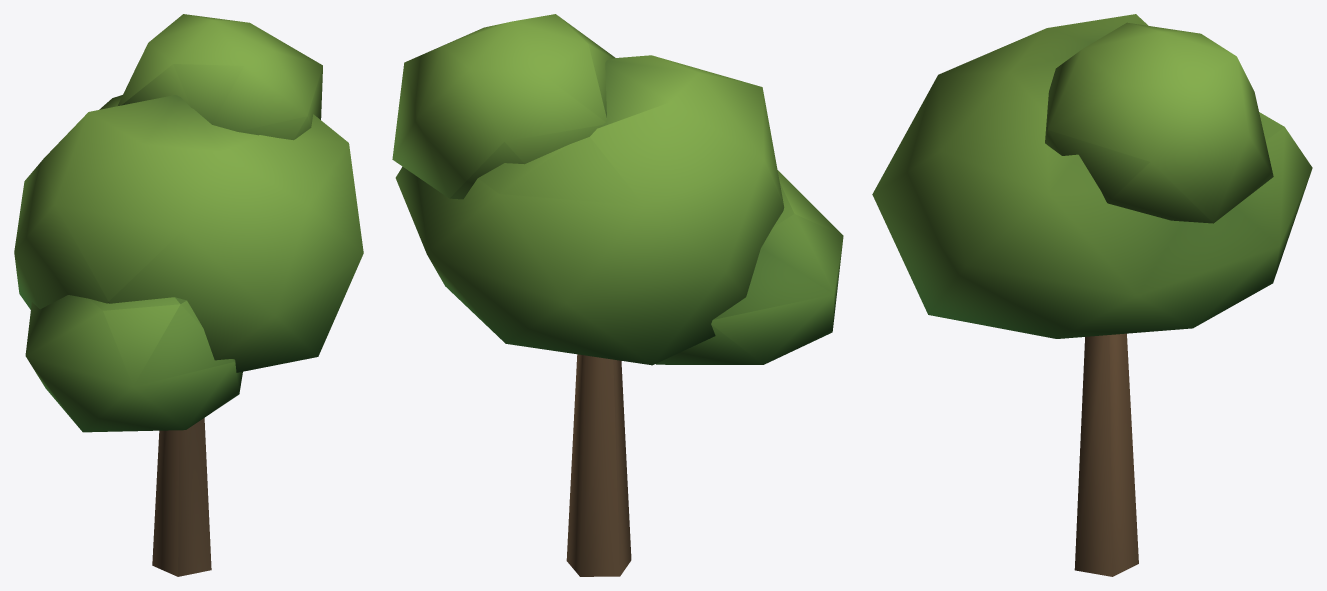
Rendered from prop_tree_a.glb.
3 views of the same model, side by side, from view 1: azimuth 30°, elevation 25°; view 2: azimuth 150°, elevation 25°; view 3: azimuth 270°, elevation 25° (orthographic). The views are drawn at different scales.
Visible parts, largest first — view 1: prop_tree_a; view 2: prop_tree_a; view 3: prop_tree_a.
Part boxes in pixels (left/top/right/bottom): prop_tree_a: left=14, top=14, right=363, bottom=576; prop_tree_a: left=392, top=14, right=843, bottom=576; prop_tree_a: left=872, top=14, right=1312, bottom=576.
Size of the model in its own units: 1.12 by 1.51 by 1.08.
